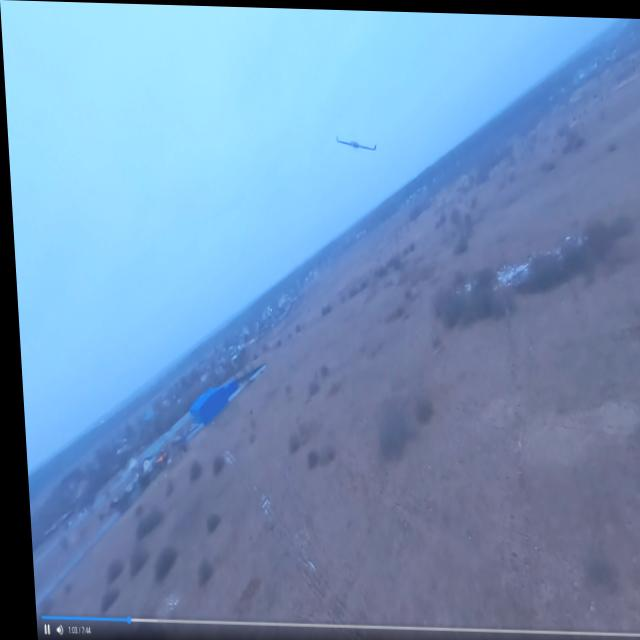planedrone: (333, 127, 379, 152)
